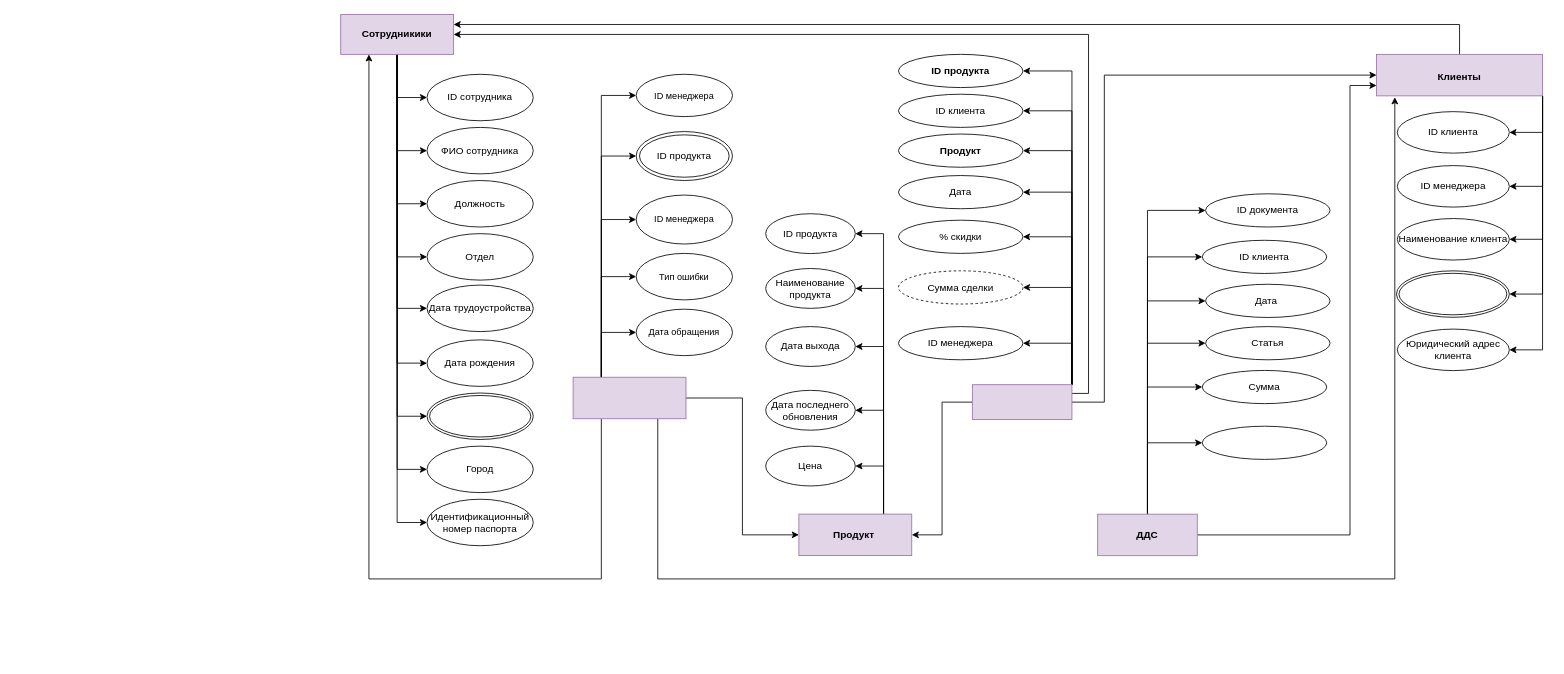
This 1564x674 diagram has some shape labels left out. Each missing label, with the centre of its shape:
e-mail подключенных пользователей: (1452,293)
Вид (поступление/расход): (1264,442)
Обращение клиентов: (629,397)
Продажи: (1022,402)
№ телефона: (479,415)
